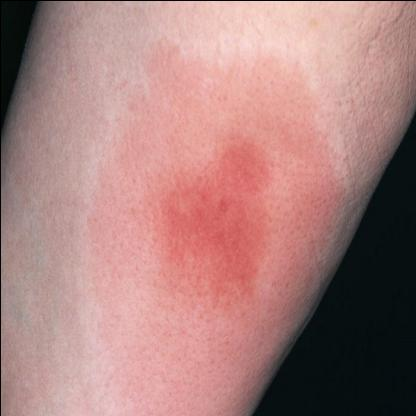Wasp: (202, 157, 250, 251)
